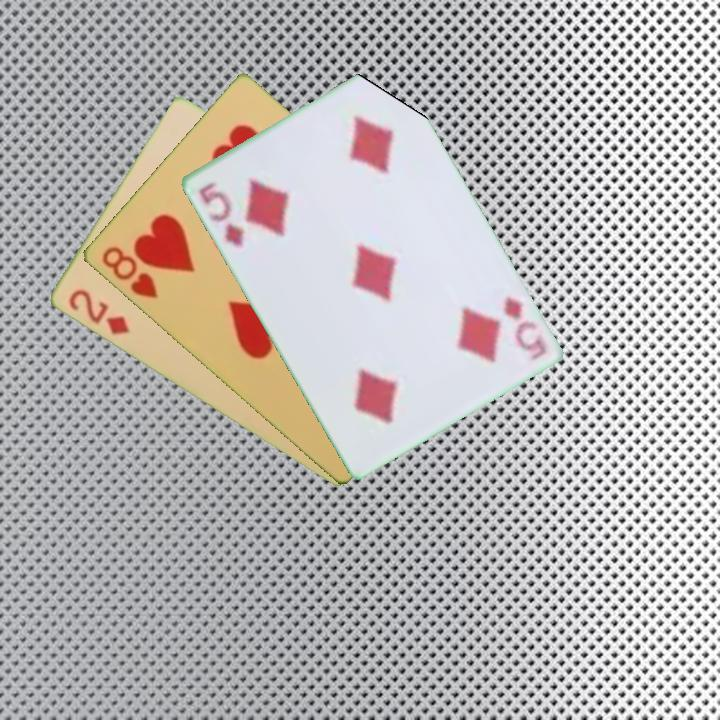2d: (64, 285, 132, 338)
5d: (195, 177, 247, 250), (499, 292, 549, 363)
8h: (97, 243, 161, 302)
